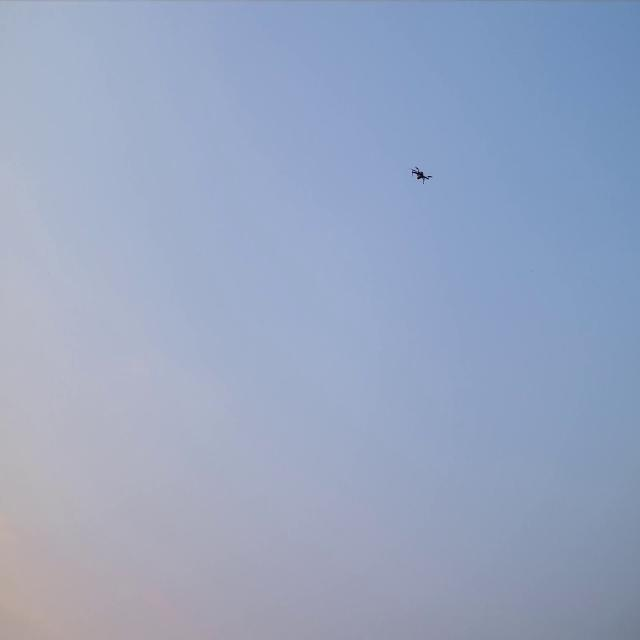UAV: (412, 168, 431, 182)
